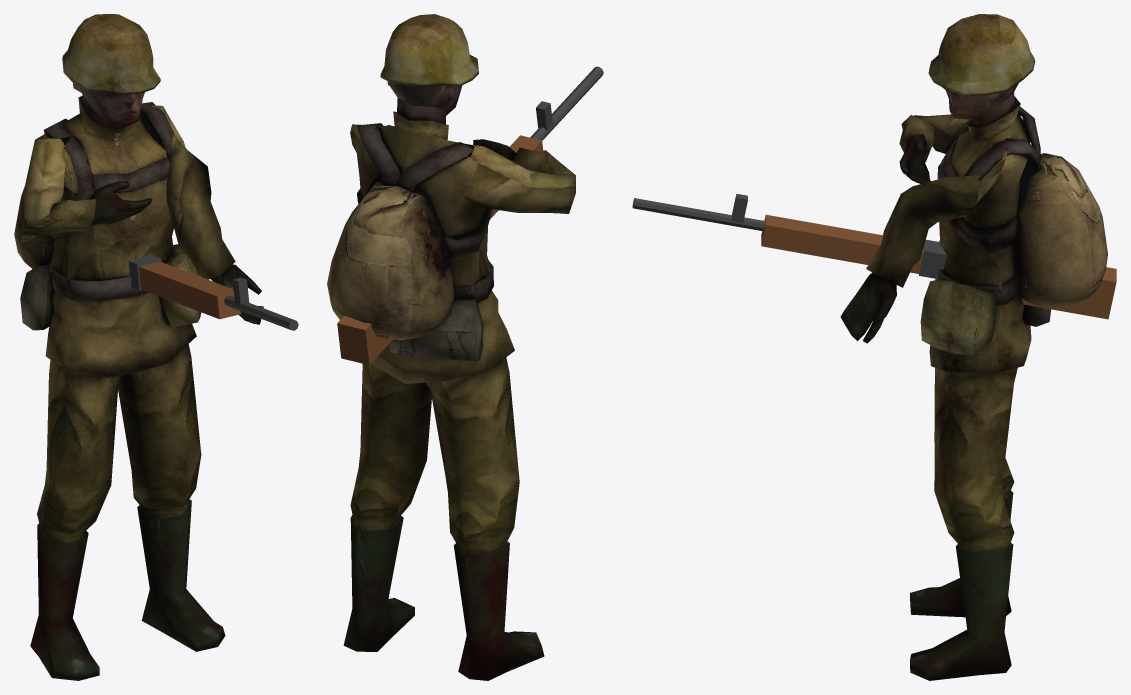
Rendered from soviet_ww2_soldier_idle_00.glb.
3 views of the same model, side by side, from view 1: azimuth 30°, elevation 25°; view 2: azimuth 150°, elevation 25°; view 3: azimuth 270°, elevation 25° (orthographic). The views are drawn at different scales.
Parts seen in each view (by area): view 1: final_Static, SovietRifle_Generated; view 2: final_Static, SovietRifle_Generated; view 3: final_Static, SovietRifle_Generated.
Boxes of the visible parts, <box> form: final_Static: <box>14,14,263,680</box>; SovietRifle_Generated: <box>128,254,298,330</box>; final_Static: <box>327,14,575,680</box>; SovietRifle_Generated: <box>337,66,603,365</box>; final_Static: <box>840,14,1107,680</box>; SovietRifle_Generated: <box>632,193,1116,319</box>.
Size of the model in its own units: 0.6243 by 1.72 by 1.22.
3 materials, 1 textured.
